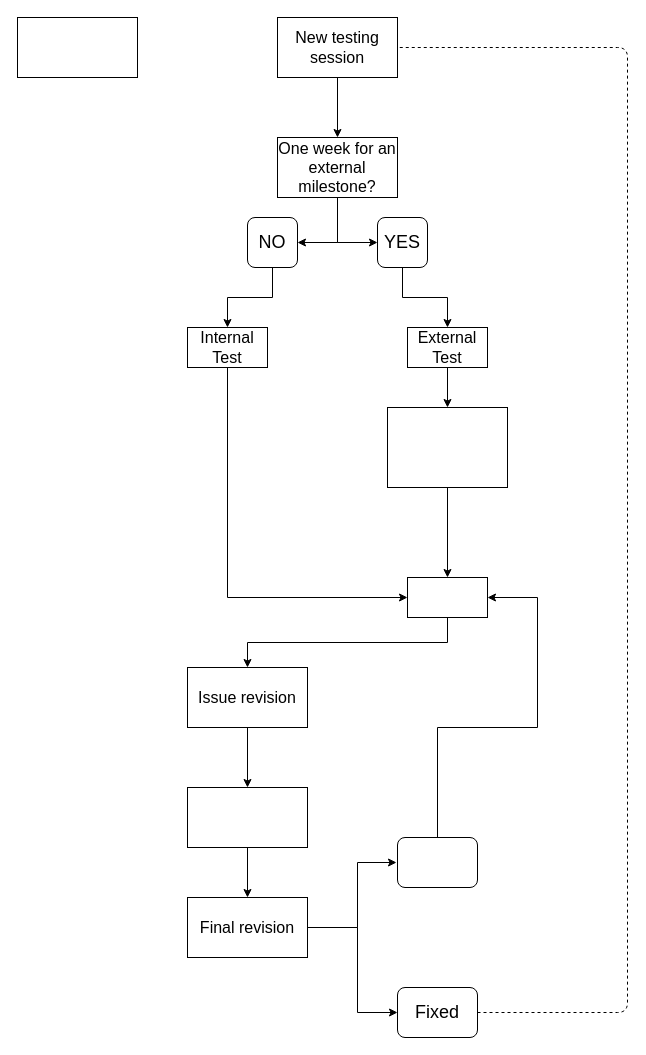
Some shapes in this 646 by 1055 pixel diagram are drawn without their labels. The shapes that lost their labels are listed below. From the top down, each one's centre as x and y in pixels, then its label:
At (x=77, y=47): "QA Workflow".
At (x=447, y=447): "Receiving information from external testers".
At (x=447, y=597): "Issue reporting".
At (x=247, y=817): "Issue fixing".
At (x=437, y=862): "Unfixed".
